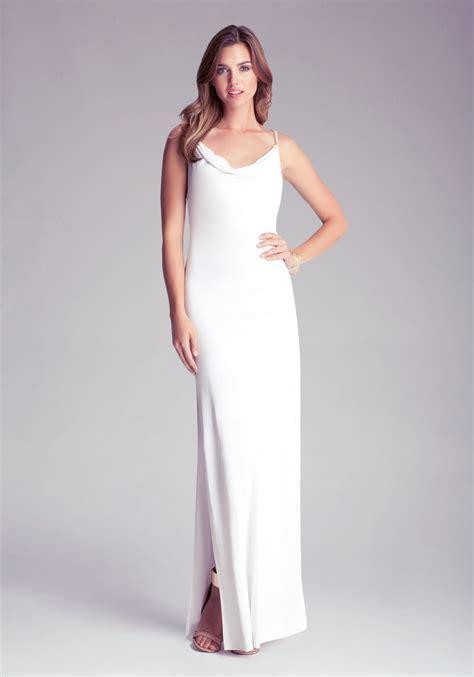dress: (184, 119, 308, 650)
